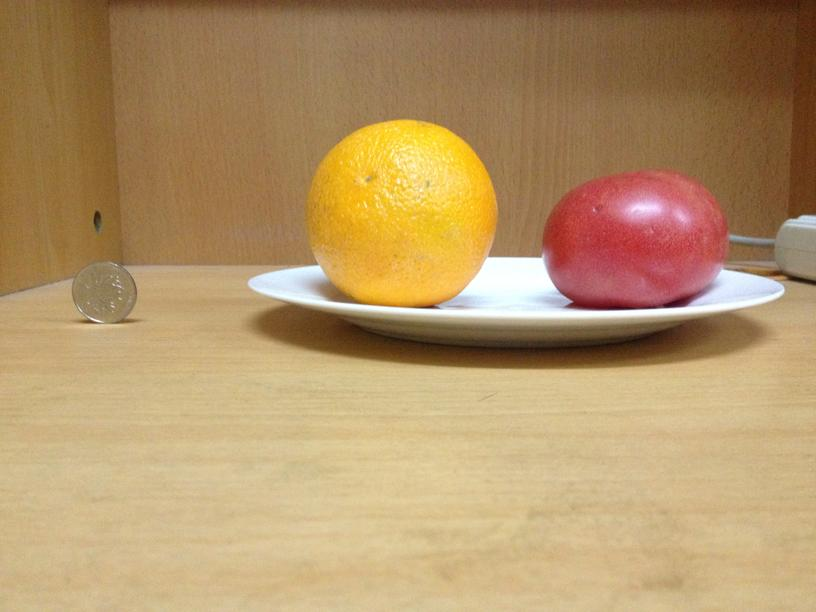coin: (70, 258, 136, 323)
orange: (303, 119, 498, 305)
tomato: (542, 173, 727, 306)
